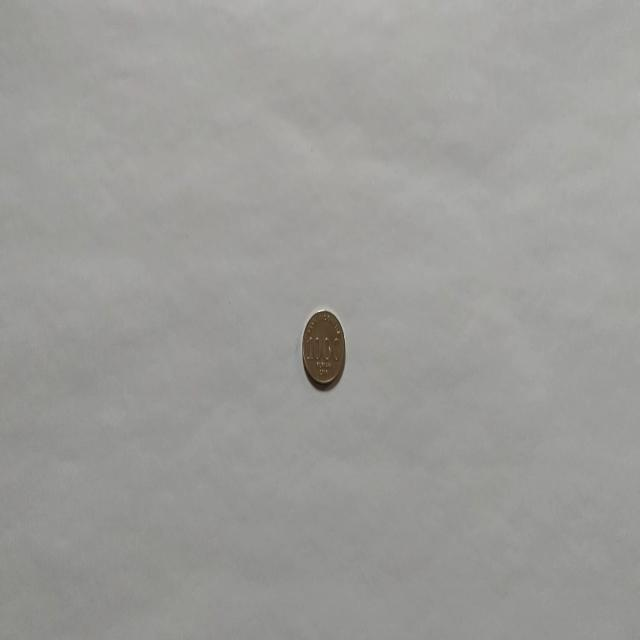seribu rupiah koin: (300, 306, 346, 388)
